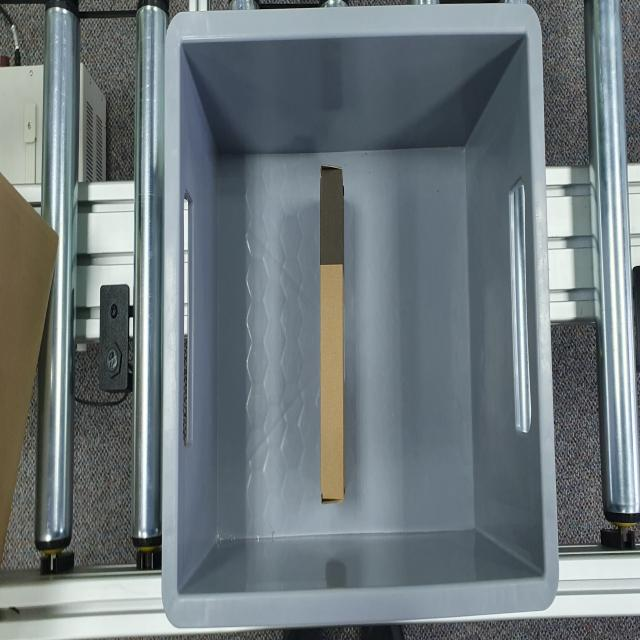box: (318, 162, 346, 509)
